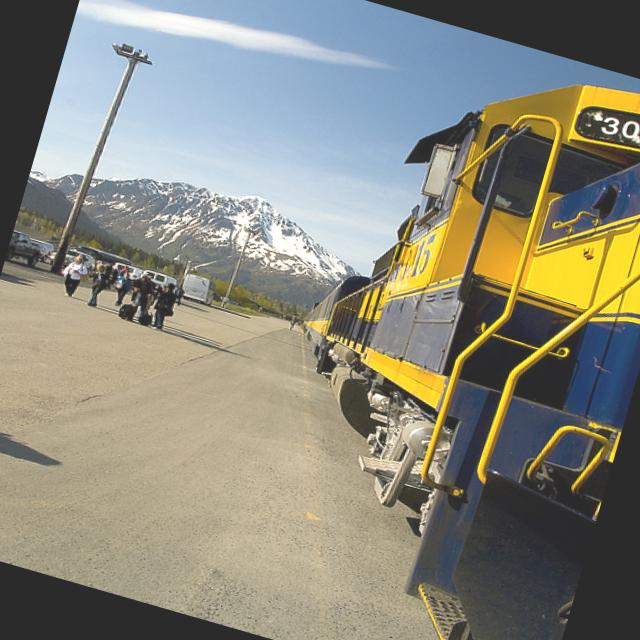Vehicle: (44, 243, 99, 276), (48, 244, 98, 277), (5, 229, 44, 270), (5, 229, 44, 269), (140, 268, 178, 288), (142, 268, 178, 288), (110, 260, 144, 281), (24, 239, 50, 263), (111, 260, 142, 280), (228, 298, 237, 304)
